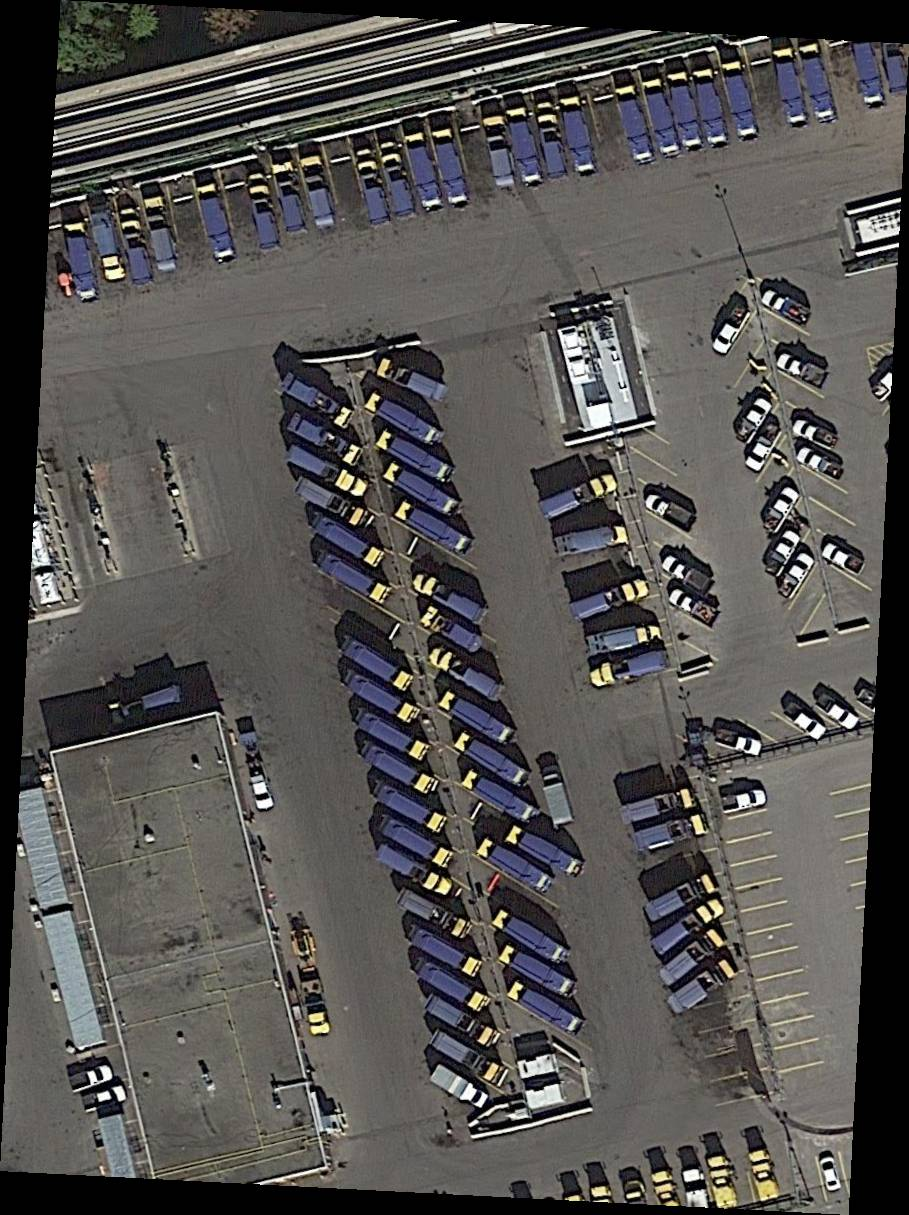large vehicle: (356, 740, 441, 799), (452, 731, 533, 791), (461, 769, 542, 829), (292, 476, 376, 533), (498, 944, 580, 1002), (491, 909, 571, 968), (439, 690, 518, 749), (476, 838, 556, 896), (507, 981, 587, 1039), (411, 958, 493, 1014), (423, 993, 502, 1051), (428, 646, 507, 704), (341, 670, 421, 727), (429, 1030, 509, 1087), (365, 392, 445, 449), (395, 501, 475, 558), (374, 843, 455, 899), (505, 825, 586, 880), (287, 445, 369, 499), (650, 898, 725, 957), (376, 430, 455, 486), (315, 550, 393, 606), (370, 780, 449, 835), (376, 814, 455, 869), (338, 636, 414, 693), (287, 413, 365, 468), (280, 372, 355, 429), (352, 708, 431, 762), (395, 887, 474, 941), (383, 463, 460, 518), (412, 571, 489, 626), (657, 928, 726, 989), (310, 513, 385, 569), (665, 959, 737, 1017), (405, 925, 483, 978), (539, 471, 618, 521), (569, 577, 650, 623), (644, 874, 716, 924), (376, 358, 450, 405), (615, 85, 655, 167), (721, 61, 760, 144), (432, 128, 471, 211), (196, 184, 236, 263), (405, 133, 444, 214), (642, 80, 681, 158), (667, 72, 705, 152), (633, 814, 709, 854), (800, 43, 837, 125), (559, 96, 596, 177), (693, 69, 730, 149), (621, 788, 698, 826), (773, 49, 809, 130), (89, 204, 125, 284), (507, 108, 542, 187), (429, 1064, 489, 1110), (300, 155, 336, 231), (379, 141, 415, 217), (355, 148, 390, 225), (247, 173, 282, 249), (65, 223, 98, 303), (144, 196, 178, 273), (120, 208, 153, 286), (555, 524, 628, 559), (536, 103, 568, 180), (587, 624, 661, 657), (484, 116, 517, 189), (273, 161, 306, 232), (540, 766, 574, 827)
small vehicle: (707, 299, 756, 360), (792, 437, 849, 489), (642, 487, 700, 537), (740, 417, 788, 477), (773, 347, 831, 393), (664, 585, 722, 630), (758, 285, 816, 329), (773, 548, 818, 604), (760, 526, 805, 579), (759, 483, 803, 537), (811, 690, 863, 735), (659, 553, 716, 594), (790, 410, 843, 454), (780, 700, 832, 744), (817, 538, 868, 581), (712, 726, 767, 760), (717, 785, 771, 818), (69, 1060, 115, 1096), (80, 1082, 127, 1115), (246, 772, 278, 816), (302, 995, 331, 1039), (818, 1154, 844, 1194)
